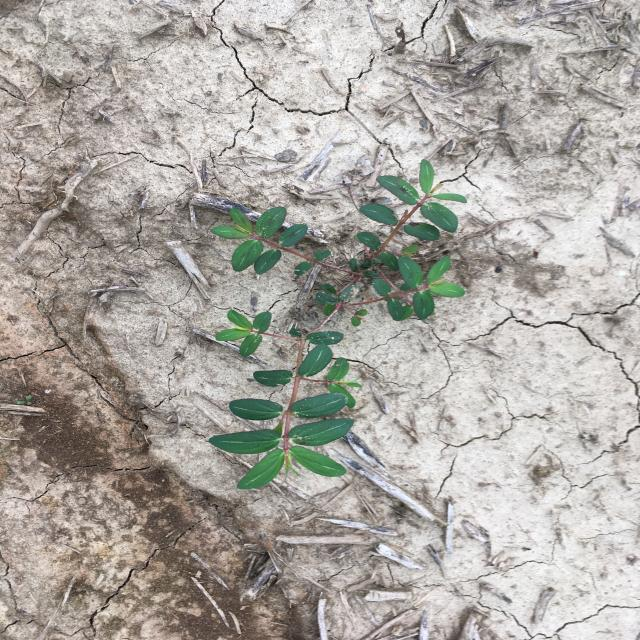SpottedSpurge: (208, 159, 468, 490)
